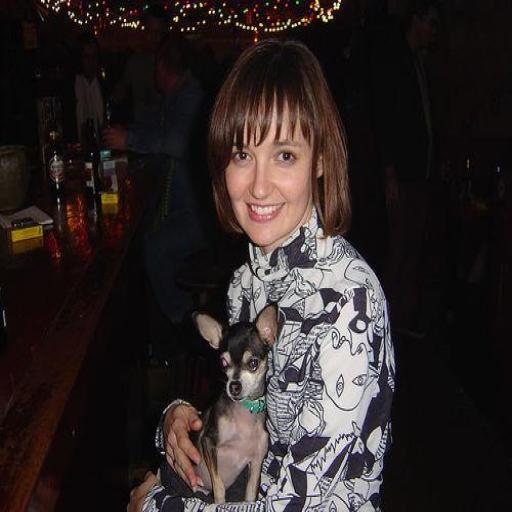dog_face: (190, 300, 278, 399)
